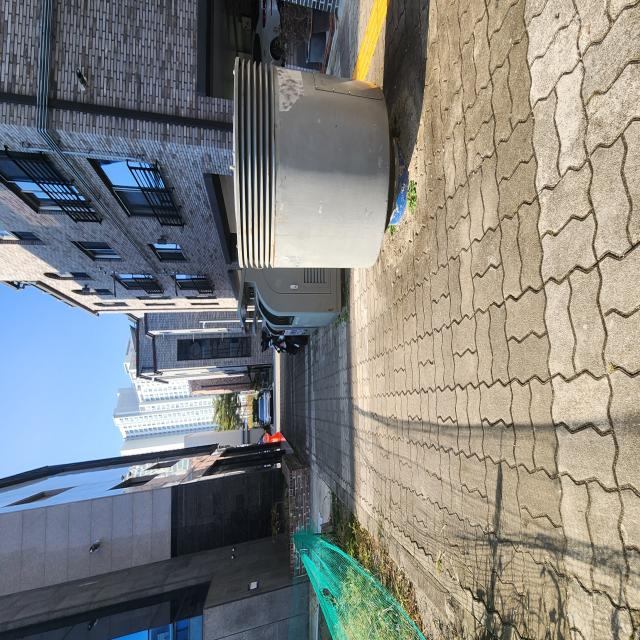CleanNet: (142, 513, 182, 640)
